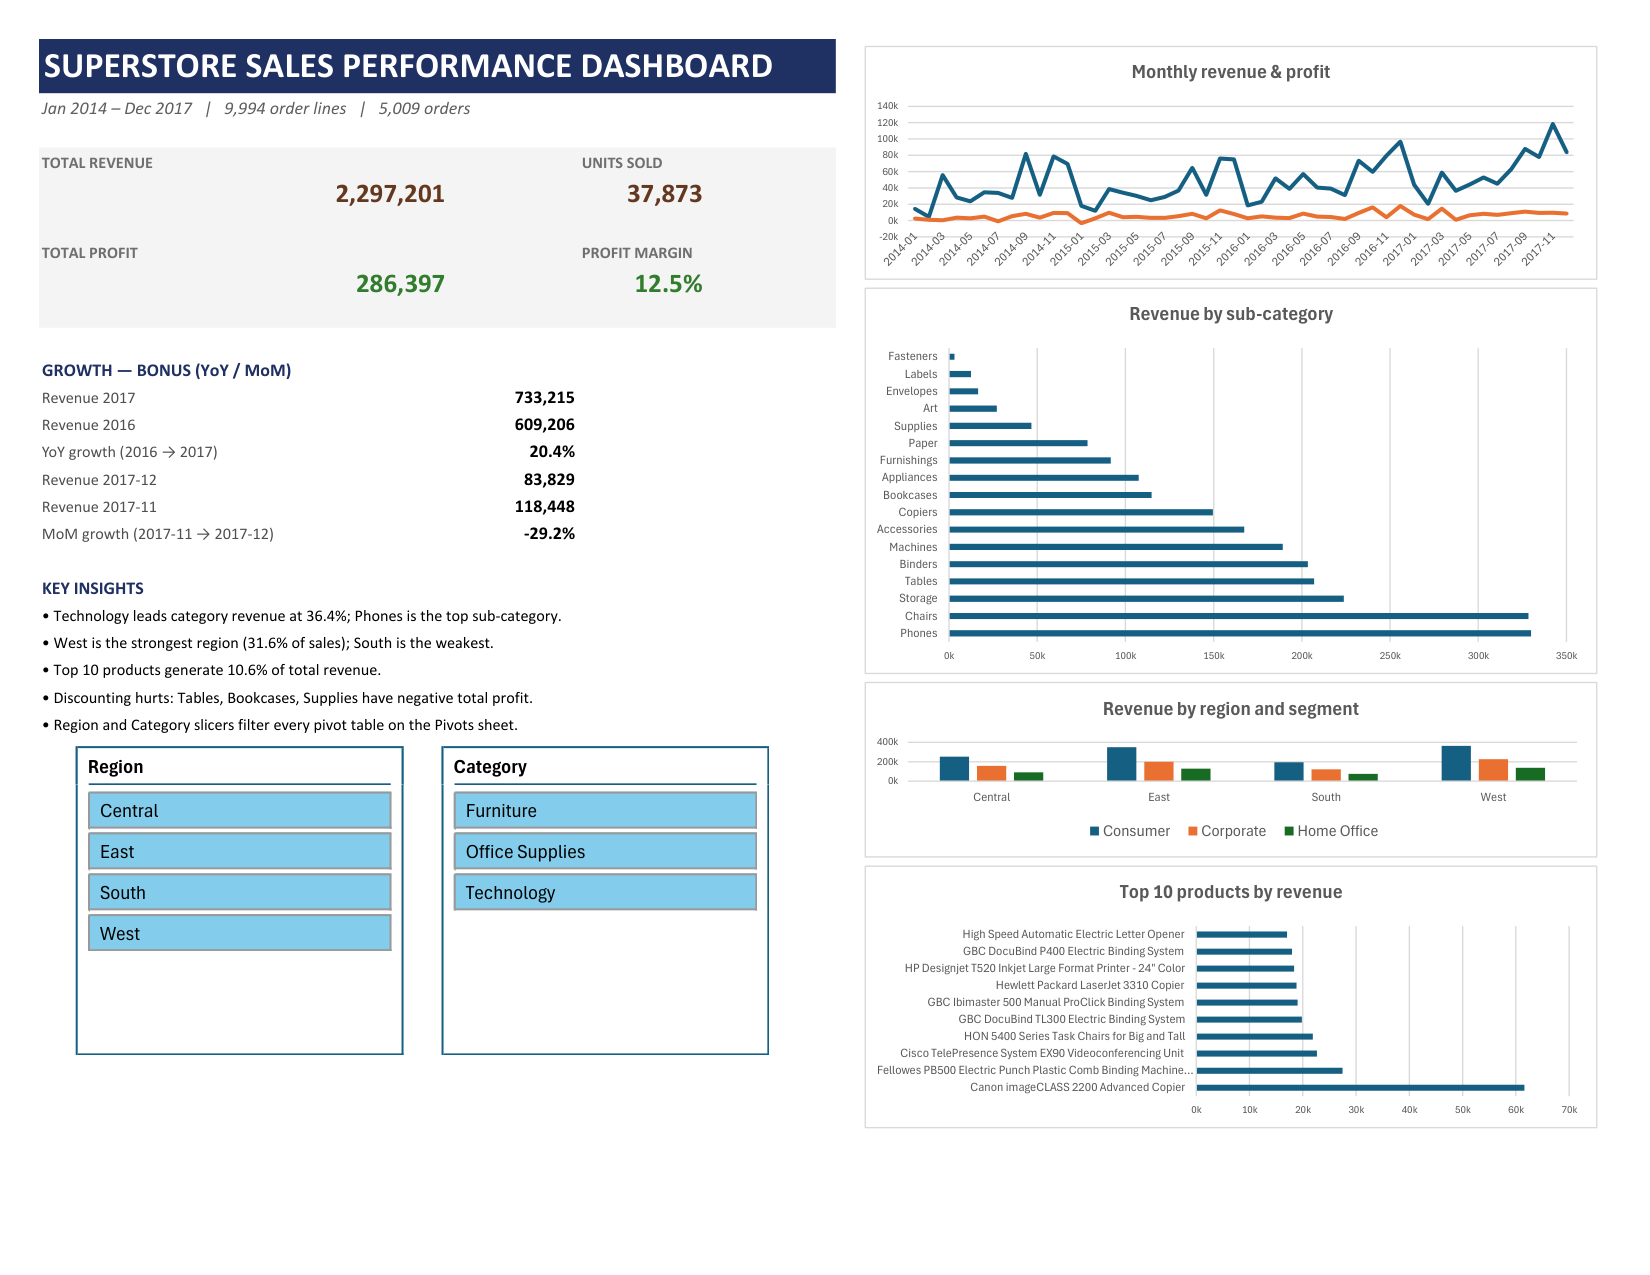

What the dashboard file says about the page in this screenshot:
{"tool":"powerbi","page":{"name":"Overview","canvas":[1280,720],"ordinal":0},"visuals":[{"type":"cardVisual","fields":{"Data":["_Measures.Report Title"]},"box":[8,4,1264,44],"z":0},{"type":"cardVisual","fields":{"Data":["_Measures.Total Revenue"]},"box":[8,52,200,62],"z":0},{"type":"cardVisual","fields":{"Data":["_Measures.Total Profit"]},"box":[220,52,200,62],"z":0},{"type":"cardVisual","fields":{"Data":["_Measures.Profit Margin"]},"box":[432,52,200,62],"z":0},{"type":"cardVisual","fields":{"Data":["_Measures.Units Sold"]},"box":[644,52,200,62],"z":0},{"type":"cardVisual","fields":{"Data":["_Measures.Average Order Value"]},"box":[856,52,200,62],"z":0},{"type":"cardVisual","fields":{"Data":["_Measures.YoY Growth Last Year"]},"box":[1068,52,200,62],"z":0},{"type":"lineChart","fields":{"Category":["DimDate.YearMonth"],"Y":["_Measures.Total Revenue"]},"box":[8,120,620,250],"z":0},{"type":"barChart","fields":{"Category":["DimGeography.Region"],"Y":["_Measures.Total Revenue"]},"box":[636,120,636,250],"z":0},{"type":"barChart","fields":{"Category":["TopProducts.ProductName"],"Y":["_Measures.Top Product Revenue"]},"box":[8,376,620,200],"z":0},{"type":"donutChart","fields":{"Category":["DimProduct.Category"],"Y":["_Measures.Total Revenue"]},"box":[636,376,300,200],"z":0},{"type":"tableEx","fields":{"Values":["DimCustomer.Segment","_Measures.Total Revenue","_Measures.Total Profit","_Measures.Profit Margin"]},"box":[944,376,328,200],"z":0},{"type":"slicer","fields":{"Values":["DimGeography.Region"]},"box":[8,582,248,128],"z":0},{"type":"slicer","fields":{"Values":["DimProduct.Category"]},"box":[260,582,248,128],"z":0},{"type":"slicer","fields":{"Values":["DimCustomer.Segment"]},"box":[512,582,248,128],"z":0},{"type":"slicer","fields":{"Values":["DimDate.Year"]},"box":[764,582,248,128],"z":0},{"type":"slicer","fields":{"Values":["FactSales.ShipMode"]},"box":[1016,582,248,128],"z":0}]}

Visuals, with their boxes on the page's 1280x720 design canvas (x1, y1, x2, y2). These are canvas units, not pixel positions in the 1650x1275 screenshot, which may show the page scaled, cropped or inside an application window:
cardVisual - _Measures.Report Title: <region>8, 4, 1272, 48</region>
cardVisual - _Measures.Total Revenue: <region>8, 52, 208, 114</region>
cardVisual - _Measures.Total Profit: <region>220, 52, 420, 114</region>
cardVisual - _Measures.Profit Margin: <region>432, 52, 632, 114</region>
cardVisual - _Measures.Units Sold: <region>644, 52, 844, 114</region>
cardVisual - _Measures.Average Order Value: <region>856, 52, 1056, 114</region>
cardVisual - _Measures.YoY Growth Last Year: <region>1068, 52, 1268, 114</region>
lineChart - DimDate.YearMonth x _Measures.Total Revenue: <region>8, 120, 628, 370</region>
barChart - DimGeography.Region x _Measures.Total Revenue: <region>636, 120, 1272, 370</region>
barChart - TopProducts.ProductName x _Measures.Top Product Revenue: <region>8, 376, 628, 576</region>
donutChart - DimProduct.Category x _Measures.Total Revenue: <region>636, 376, 936, 576</region>
tableEx - DimCustomer.Segment x _Measures.Total Revenue: <region>944, 376, 1272, 576</region>
slicer - DimGeography.Region: <region>8, 582, 256, 710</region>
slicer - DimProduct.Category: <region>260, 582, 508, 710</region>
slicer - DimCustomer.Segment: <region>512, 582, 760, 710</region>
slicer - DimDate.Year: <region>764, 582, 1012, 710</region>
slicer - FactSales.ShipMode: <region>1016, 582, 1264, 710</region>
